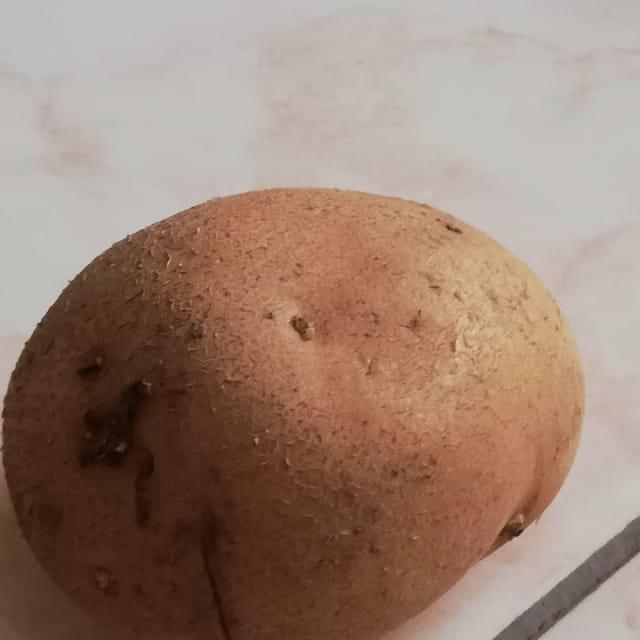potato: (0, 156, 602, 640)
